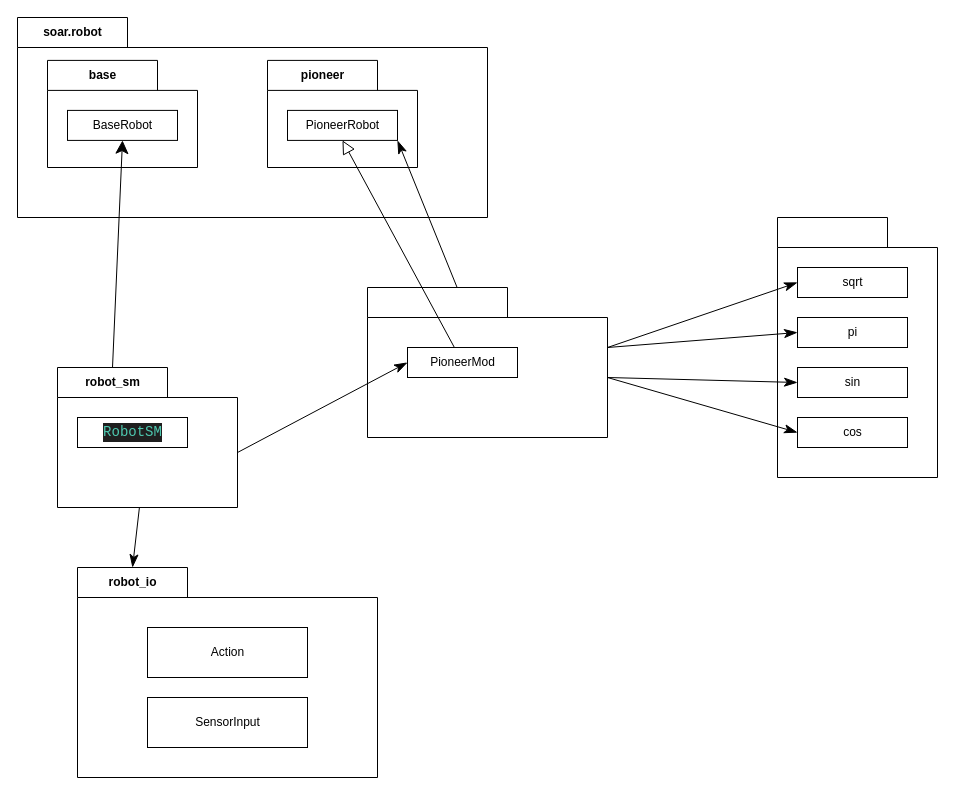
The diagram is 955 pixels wide and 795 high, and some of its shapes have lost their labels. The centre of each missing label's shape, as x and y in pixels:
"math" belongs at pixel 857 347.
"robot_pioneerMod" belongs at pixel 487 362.
